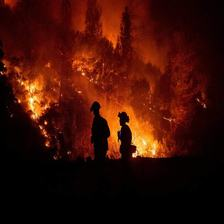fire: (9, 51, 69, 148), (131, 117, 179, 160)
